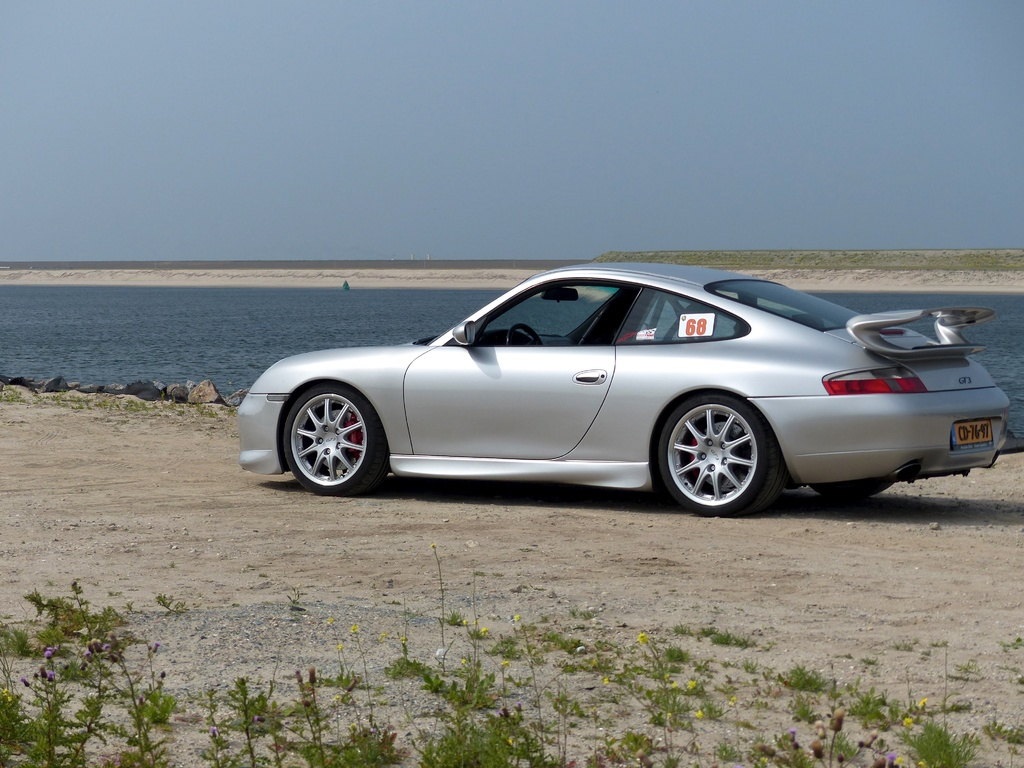Car: (238, 259, 1009, 517)
